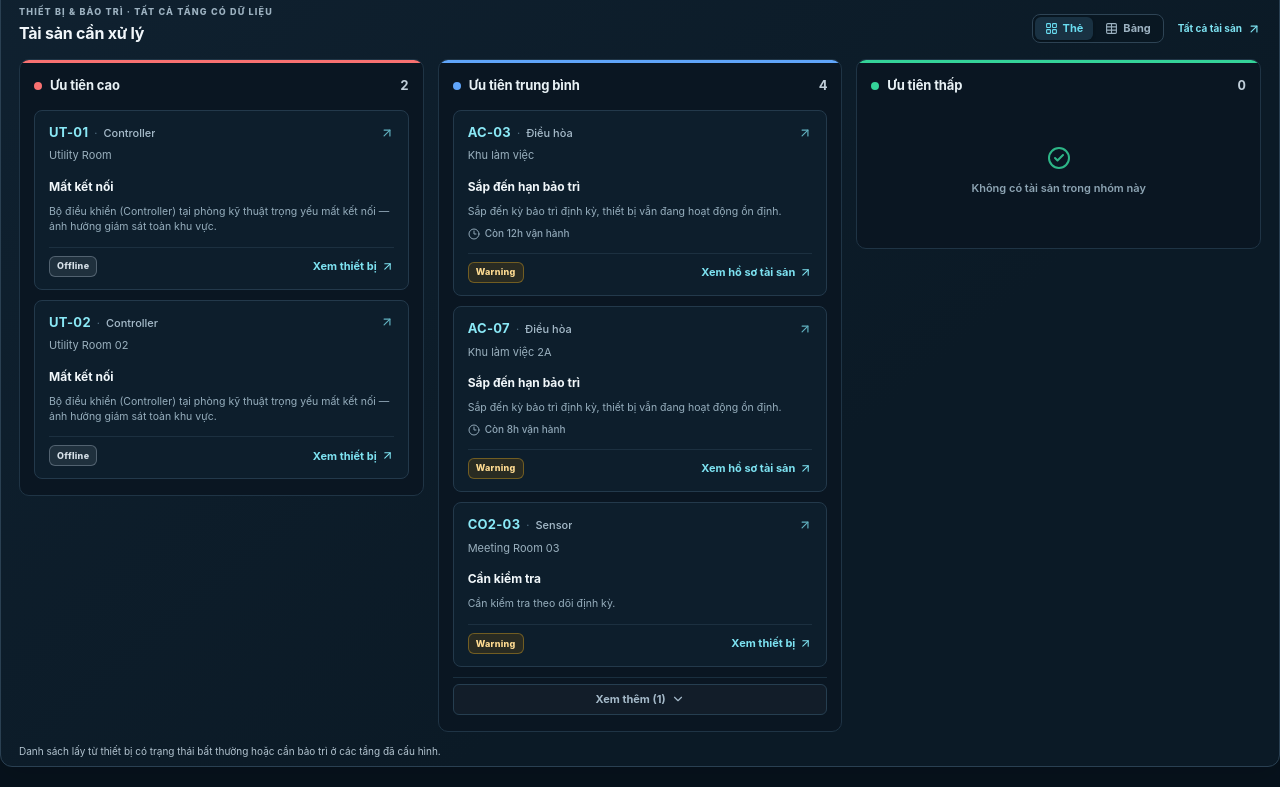
it: AssetExceptionsSection › handles expand and collapse for columns with more than 3 cards
Click the button "Xem thêm (1)" at (640, 699), box [453, 684, 827, 715]
(page scrolled)
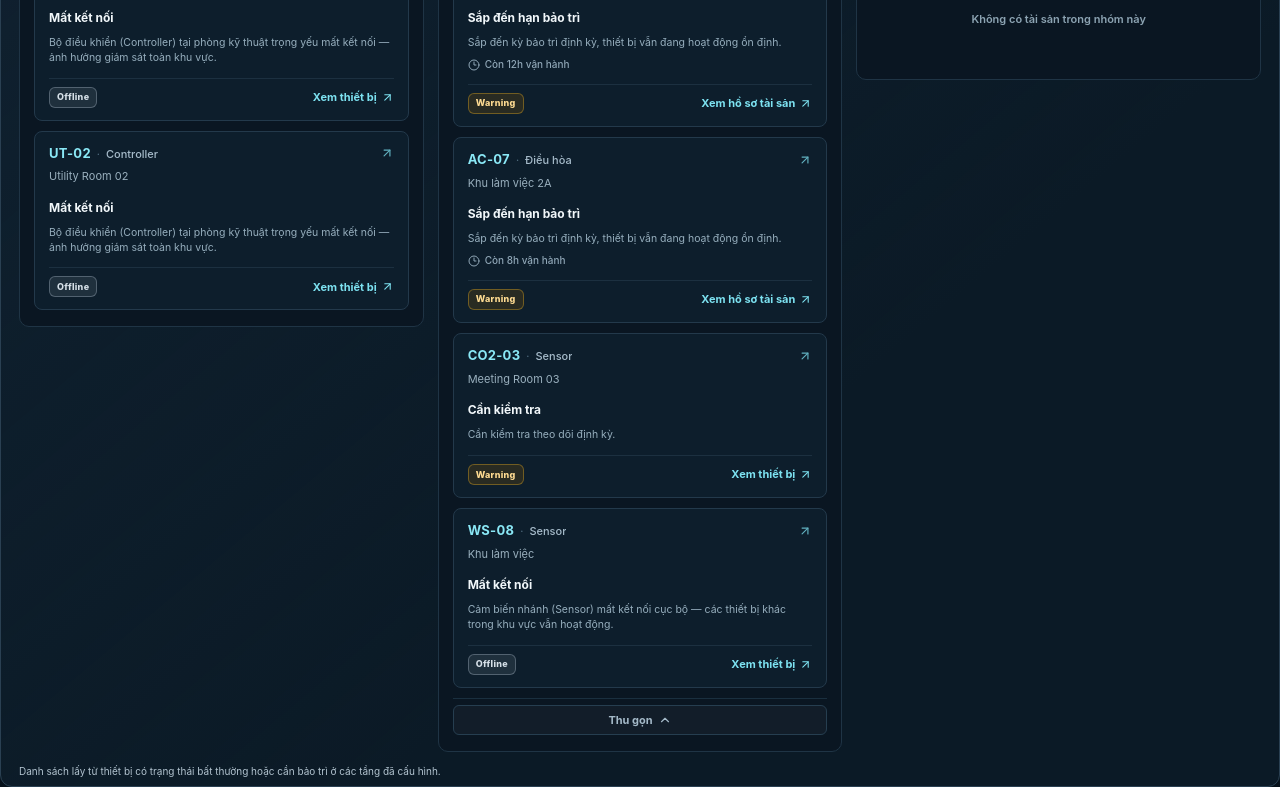
Now the button named "xem thêm" reads "Thu gọn"
Now the text "WS-08" is shown, box [468, 521, 514, 541]
# Clicking again collapses back
Click the button named "xem thêm" at (640, 720), box [453, 705, 827, 735]
(page scrolled)
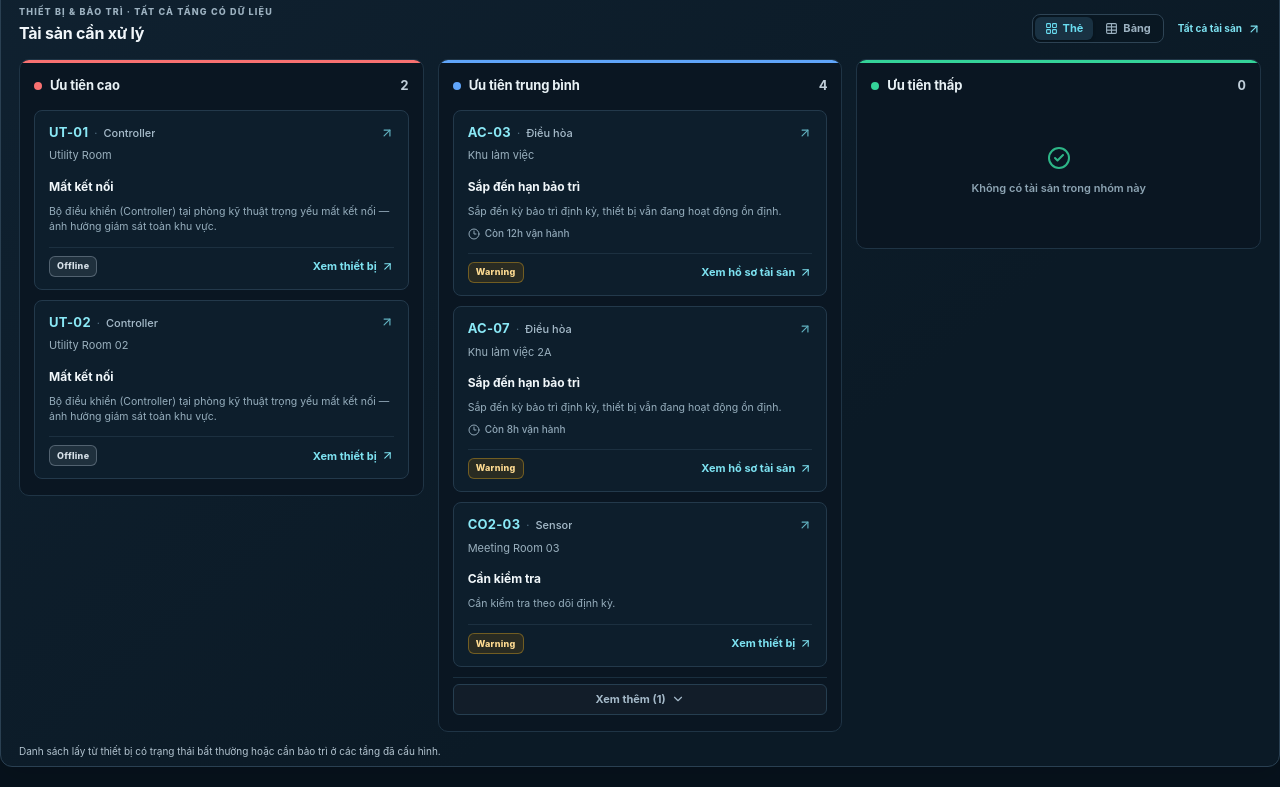
Now the button "Xem thêm (1)" is shown, box [453, 684, 827, 715]
